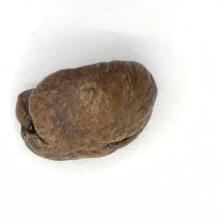NG: (14, 75, 53, 154)
